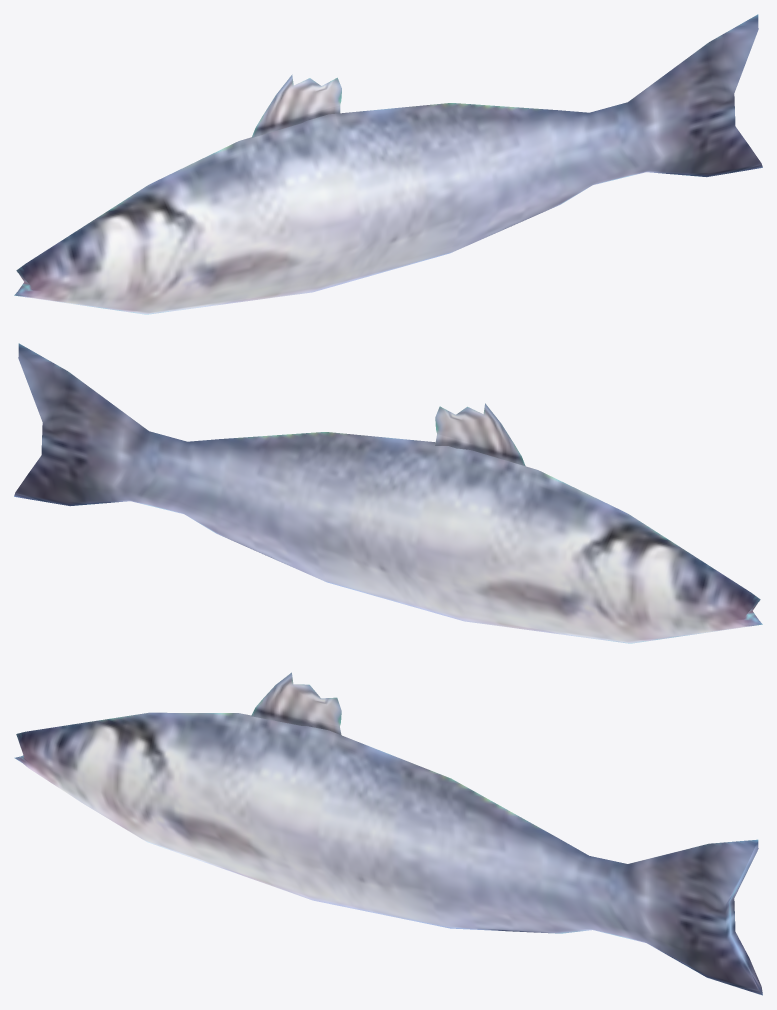
The model's file is robalo1.glb.
3 views of the same model, one above another, from view 1: azimuth 30°, elevation 25°; view 2: azimuth 150°, elevation 25°; view 3: azimuth 330°, elevation 25° (orthographic).
Visible parts, largest first — view 1: Plane; view 2: Plane; view 3: Plane.
Part boxes in pixels (x1,y1,x2,y2): Plane: (14,14,762,314); Plane: (14,343,762,643); Plane: (14,672,762,995).
Size of the model in its own units: 6.65 by 1.89 by 0.6847.
Materials: 1 (1 with a texture image).
